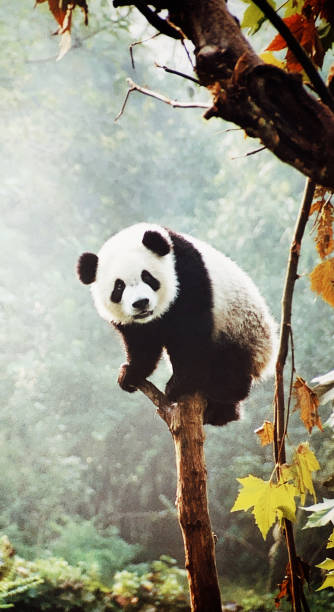panda: (69, 200, 198, 341)
